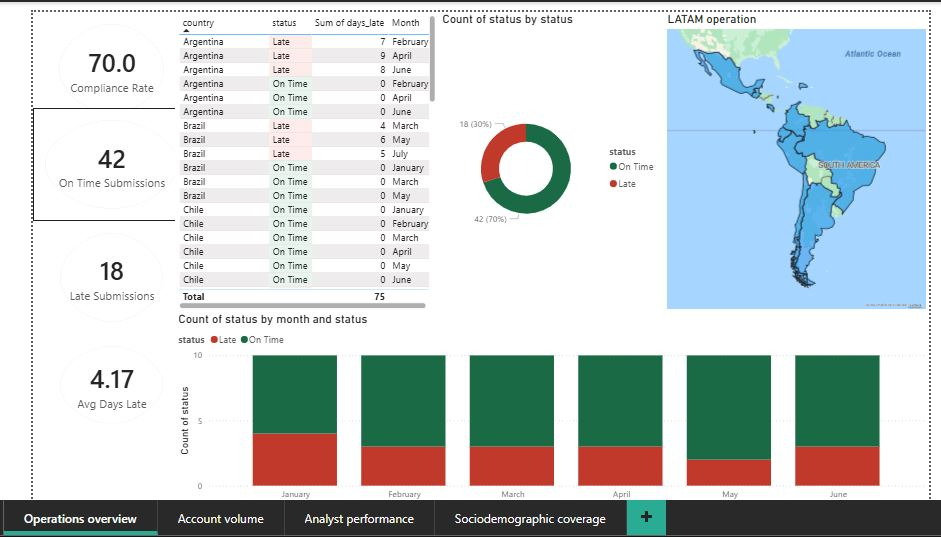

The dashboard page shown, as its layout file describes it:
{"tool":"powerbi","page":{"name":"Operations overview","canvas":[1280,720],"ordinal":0},"visuals":[{"type":"cardVisual","fields":{"Data":["latam_operations_data.Compliance Rate %"]},"box":[20,0,184.3,162.9],"z":0},{"type":"cardVisual","fields":{"Data":["latam_operations_data.On Time Count"]},"box":[0,137.1,224.3,161.4],"z":1},{"type":"cardVisual","fields":{"Data":["latam_operations_data.Late Count"]},"box":[21.4,298.6,181.4,161.4],"z":2},{"type":"cardVisual","fields":{"Data":["latam_operations_data.Avg Days Late"]},"box":[21.4,460,181.4,145.7],"z":3},{"type":"tableEx","fields":{"Values":["latam_operations_data.country","latam_operations_data.status","Sum(latam_operations_data.days_late)","latam_operations_data.submission_date.Variation.Date Hierarchy.Month"]},"box":[202.9,0,377.1,428.6],"z":4},{"type":"azureMap","title":"LATAM operation","fields":{"Category":["latam_operations_data.country"]},"box":[901.4,0,378.6,428.6],"z":6},{"type":"columnChart","fields":{"Category":["latam_operations_data.month"],"Y":["CountNonNull(latam_operations_data.status)"],"Series":["latam_operations_data.status"]},"box":[202.9,428.6,1077.1,291.4],"z":7},{"type":"donutChart","fields":{"Category":["latam_operations_data.status"],"Y":["CountNonNull(latam_operations_data.status)"]},"box":[580,0,321.4,428.6],"z":8}]}

Visuals, with their boxes on the page's 1280x720 design canvas (x1, y1, x2, y2). These are canvas units, not pixel positions in the 941x537 screenshot, which may show the page scaled, cropped or inside an application window:
cardVisual - latam_operations_data.Compliance Rate %: 20/0/204/163
cardVisual - latam_operations_data.On Time Count: 0/137/224/298
cardVisual - latam_operations_data.Late Count: 21/299/203/460
cardVisual - latam_operations_data.Avg Days Late: 21/460/203/606
tableEx - latam_operations_data.country x latam_operations_data.status: 203/0/580/429
"LATAM operation" azureMap: 901/0/1280/429
columnChart - latam_operations_data.month x CountNonNull(latam_operations_data.status): 203/429/1280/720
donutChart - latam_operations_data.status x CountNonNull(latam_operations_data.status): 580/0/901/429
